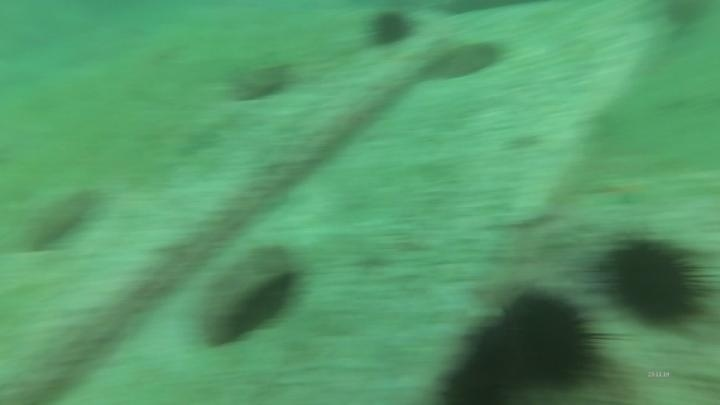echinus: (442, 284, 612, 404), (593, 230, 714, 333), (364, 7, 418, 51)
starfish: (591, 172, 660, 210)
